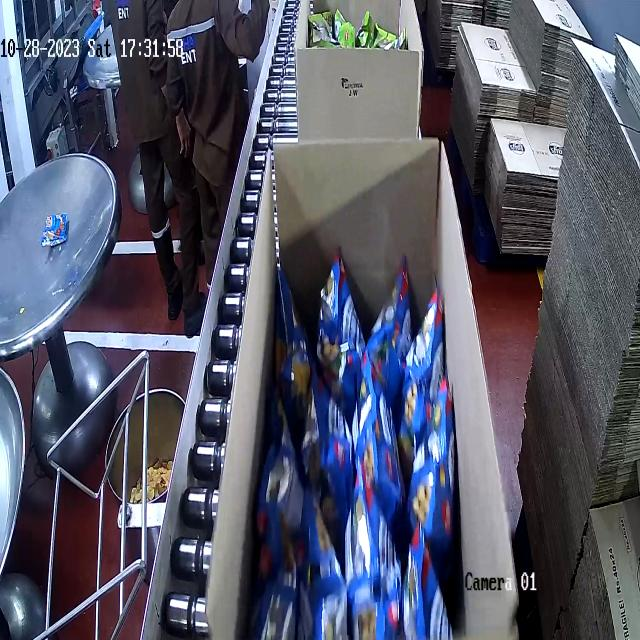PAPRIKA: (272, 270, 438, 640)
YOGURT_HERB: (307, 2, 412, 47)
